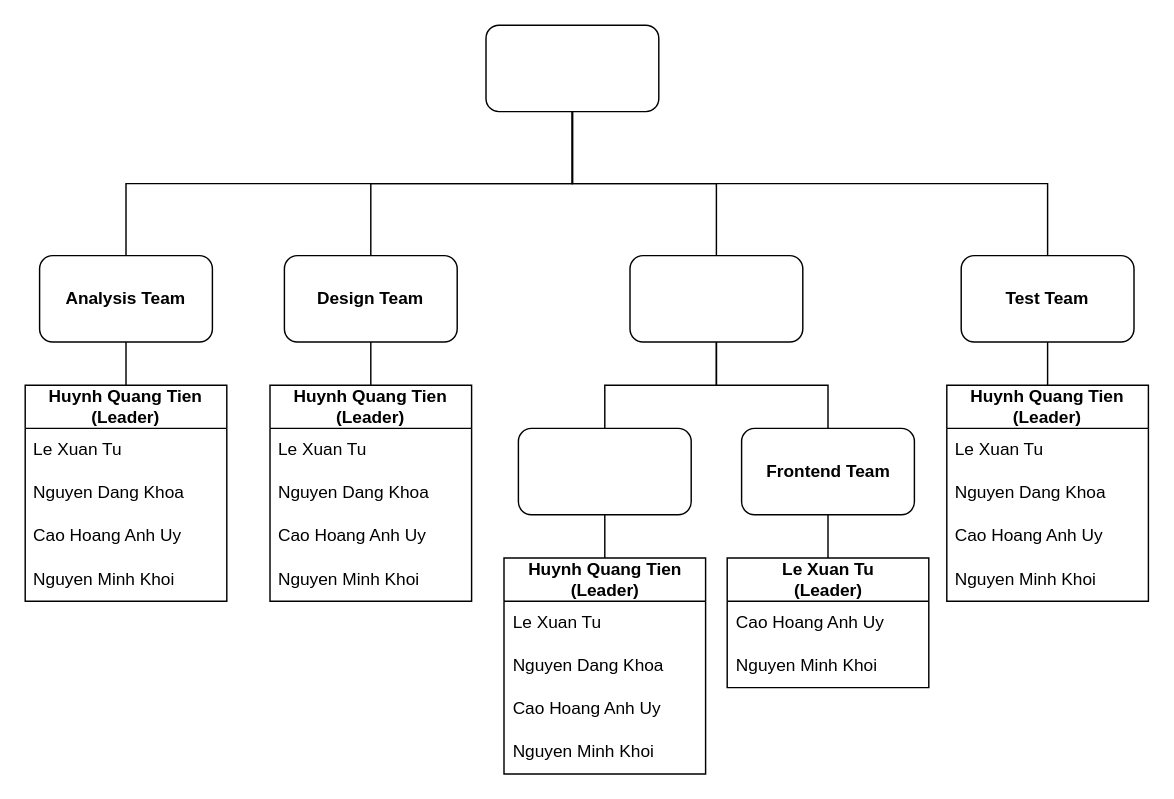
Some shapes in this 1174 by 799 pixel diagram are drawn without their labels. Each missing label, with the centre of its shape:
"Backend Team" goes at (x=604, y=471).
"Development Team" goes at (x=716, y=298).
"Project Manager Huynh Quang TIen" goes at (x=572, y=68).
